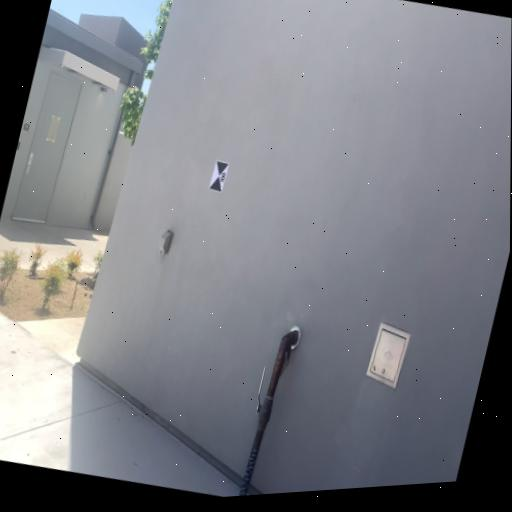target8: (209, 159, 230, 193)
